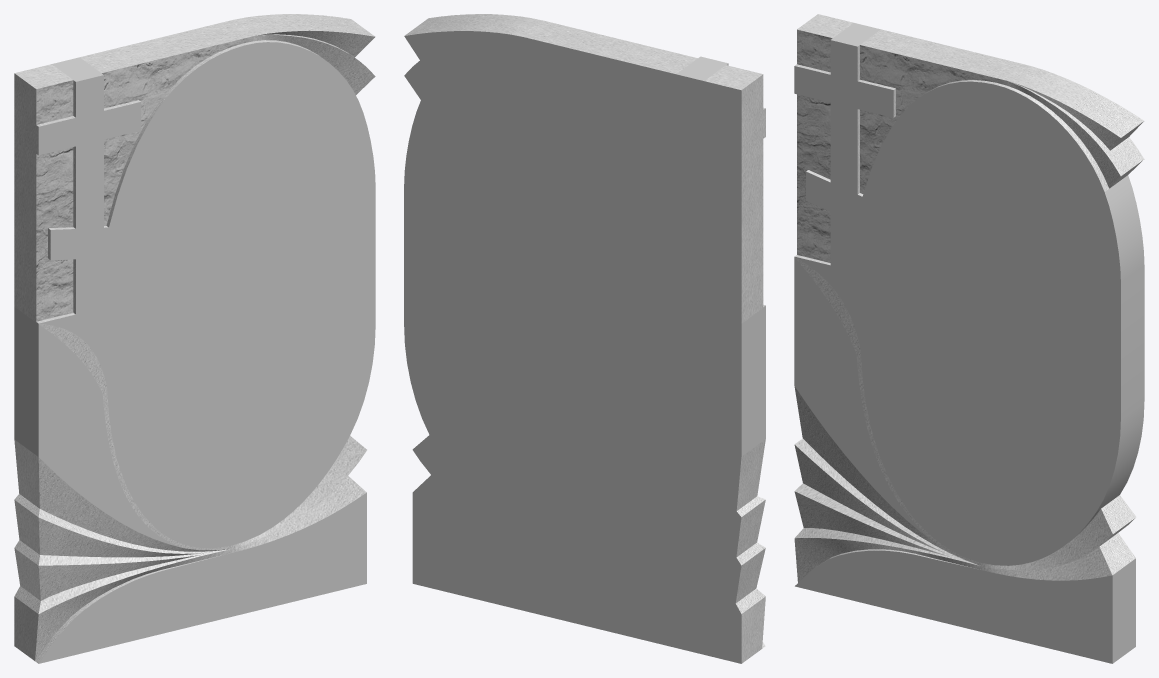
The model's file is cn5ac8594262_tkf.glb.
3 renders of one model, left to right at view 1: azimuth 30°, elevation 25°; view 2: azimuth 150°, elevation 25°; view 3: azimuth 330°, elevation 25°, orthographic. The views are drawn at different scales.
Visible parts, largest first — view 1: Pam-v-169, Pam-v-169_2_notexture; view 2: Pam-v-169, Pam-v-169_2_notexture; view 3: Pam-v-169, Pam-v-169_2_notexture.
Part boxes in pixels (bbox=[...]): Pam-v-169: bbox=[14, 42, 375, 663]; Pam-v-169_2_notexture: bbox=[14, 14, 375, 663]; Pam-v-169: bbox=[404, 31, 765, 663]; Pam-v-169_2_notexture: bbox=[404, 14, 765, 663]; Pam-v-169: bbox=[794, 23, 1144, 663]; Pam-v-169_2_notexture: bbox=[794, 14, 1144, 582].
Bounding box in the file's own units: 0.4 × 0.65 × 0.05.
Materials: 1 (1 with a texture image).
